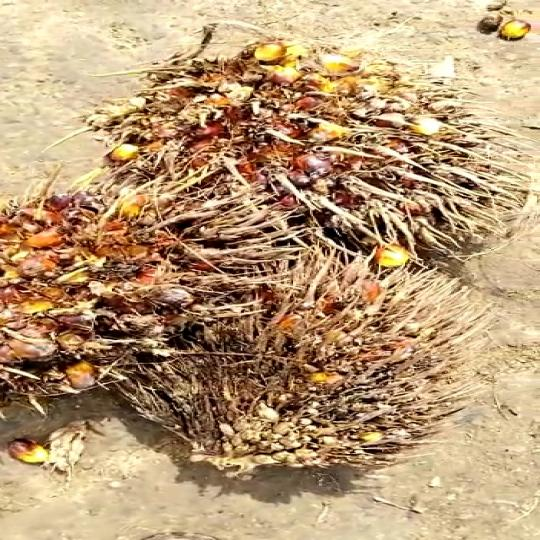terlalu masak: (85, 37, 530, 261), (92, 258, 481, 481)
